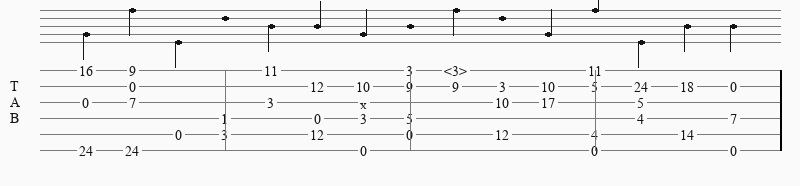0: (82, 95, 93, 109), (129, 79, 140, 93), (175, 127, 186, 141), (314, 111, 325, 125), (360, 143, 371, 157), (406, 127, 417, 141), (591, 143, 602, 157), (730, 79, 741, 93), (730, 143, 741, 157)
1: (221, 111, 232, 125)
10: (356, 79, 374, 93), (495, 95, 513, 109), (541, 79, 559, 93)
11: (264, 63, 282, 77), (588, 63, 606, 77)
12: (310, 127, 328, 141), (310, 79, 328, 93), (495, 127, 513, 141)
14: (680, 127, 698, 141)
16: (79, 63, 97, 77)
17: (541, 95, 559, 109)
18: (680, 79, 698, 93)
24: (79, 143, 97, 157), (125, 143, 143, 157), (634, 79, 652, 93)
3: (221, 127, 232, 141), (267, 95, 278, 109), (360, 111, 371, 125), (406, 63, 417, 77), (499, 79, 510, 93)
4: (591, 127, 602, 141), (637, 111, 648, 125)
5: (406, 111, 417, 125), (591, 79, 602, 93), (637, 95, 648, 109)
7: (129, 95, 140, 109), (730, 111, 741, 125)
9: (129, 63, 140, 77), (406, 79, 417, 93), (452, 79, 463, 93)
harmonic: (444, 63, 471, 77)
x: (360, 97, 371, 108)
